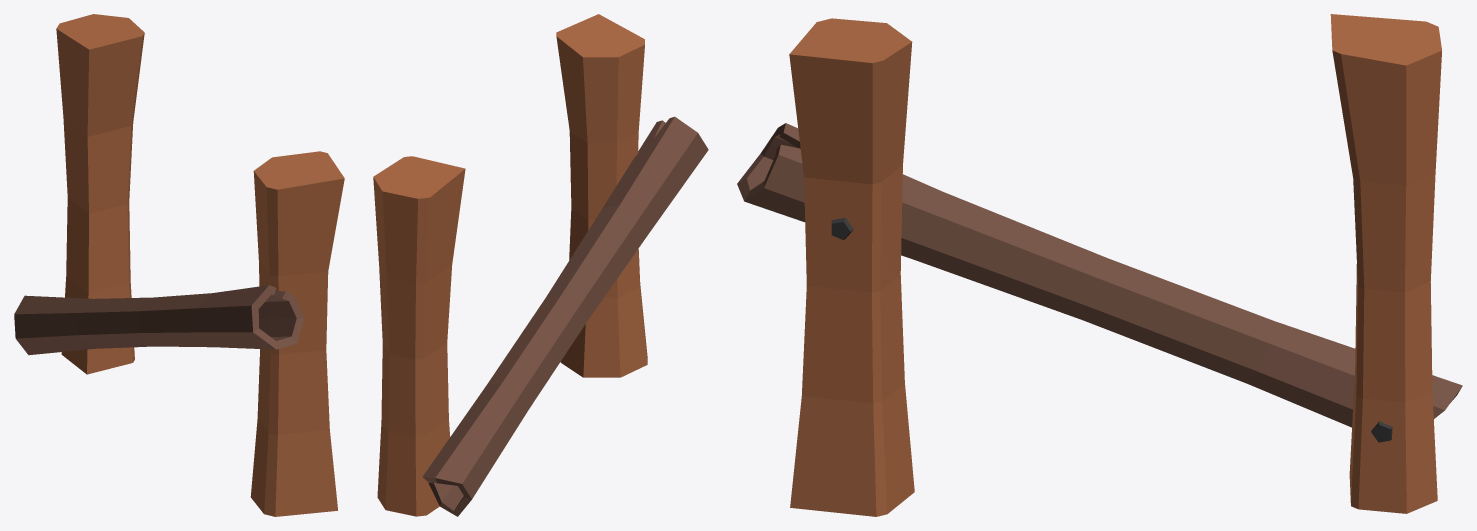
Rendered from Fence_03.fbx.
3 renders of one model, left to right at view 1: azimuth 30°, elevation 25°; view 2: azimuth 150°, elevation 25°; view 3: azimuth 270°, elevation 25°, orthographic. The views are drawn at different scales.
Parts seen in each view (by area): view 1: Fence_03; view 2: Fence_03; view 3: Fence_03.
Boxes of the visible parts, x1,y1,x2,y2 form: Fence_03: (14, 14, 344, 516); Fence_03: (373, 14, 708, 516); Fence_03: (737, 14, 1462, 516).
Bounding box in the file's own units: 23.38 × 64.25 × 92.34.
